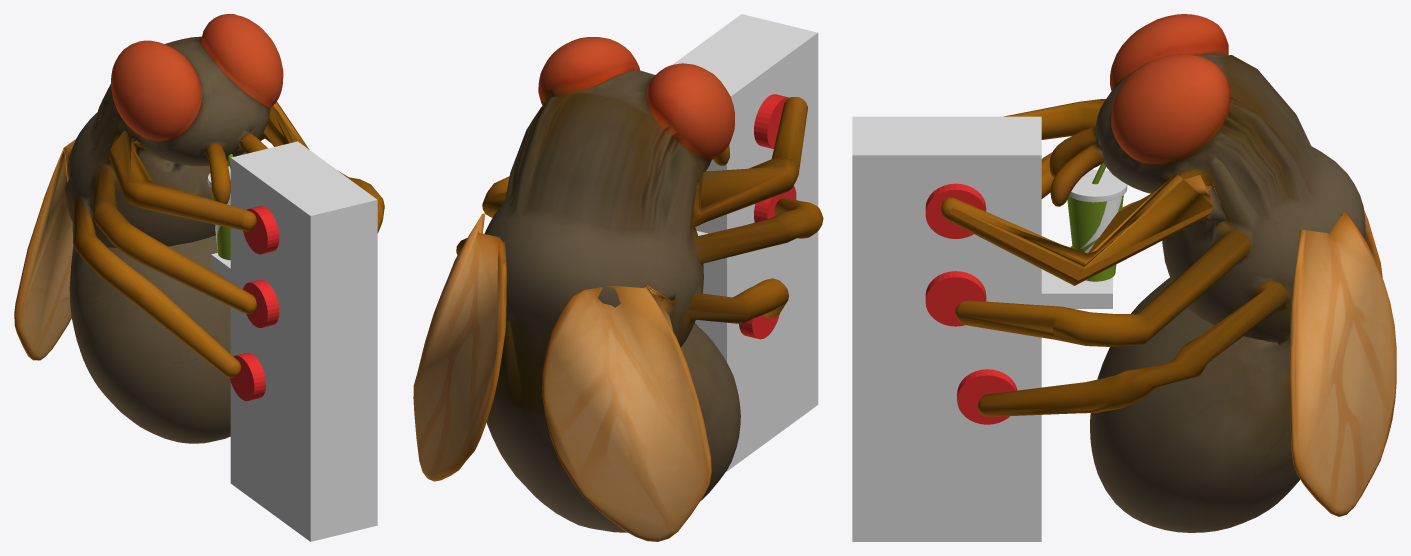
The model's file is seated_fly2.glb.
3 renders of one model, left to right at view 1: azimuth 30°, elevation 25°; view 2: azimuth 150°, elevation 25°; view 3: azimuth 270°, elevation 25°, orthographic. The views are drawn at different scales.
Parts seen in each view (by area): view 1: texture_pbr_v128.001, Cube, Button.RH, Button.RF, Button.RM, sm_softdrink; view 2: texture_pbr_v128.001, Cube, Button.RF, Button.RH, Button.RM; view 3: texture_pbr_v128.001, Cube, sm_softdrink, Button.LM, Button.LH, Button.LF.
Part boxes in pixels (bbox=[...]): texture_pbr_v128.001: bbox=[14, 14, 384, 443]; Cube: bbox=[211, 141, 377, 541]; Button.RH: bbox=[230, 352, 265, 400]; Button.RF: bbox=[243, 206, 279, 254]; Button.RM: bbox=[243, 279, 279, 327]; sm_softdrink: bbox=[207, 154, 233, 260]; texture_pbr_v128.001: bbox=[413, 37, 823, 541]; Cube: bbox=[672, 14, 818, 471]; Button.RF: bbox=[754, 94, 789, 148]; Button.RH: bbox=[739, 314, 779, 339]; Button.RM: bbox=[754, 185, 796, 222]; texture_pbr_v128.001: bbox=[941, 14, 1396, 532]; Cube: bbox=[852, 116, 1112, 541]; sm_softdrink: bbox=[1067, 162, 1127, 281]; Button.LM: bbox=[925, 271, 986, 326]; Button.LH: bbox=[957, 369, 1017, 424]; Button.LF: bbox=[925, 183, 986, 238].
Bounding box in the file's own units: 0.598 × 0.8428 × 0.8585.
Materials: 3 (2 with a texture image).
